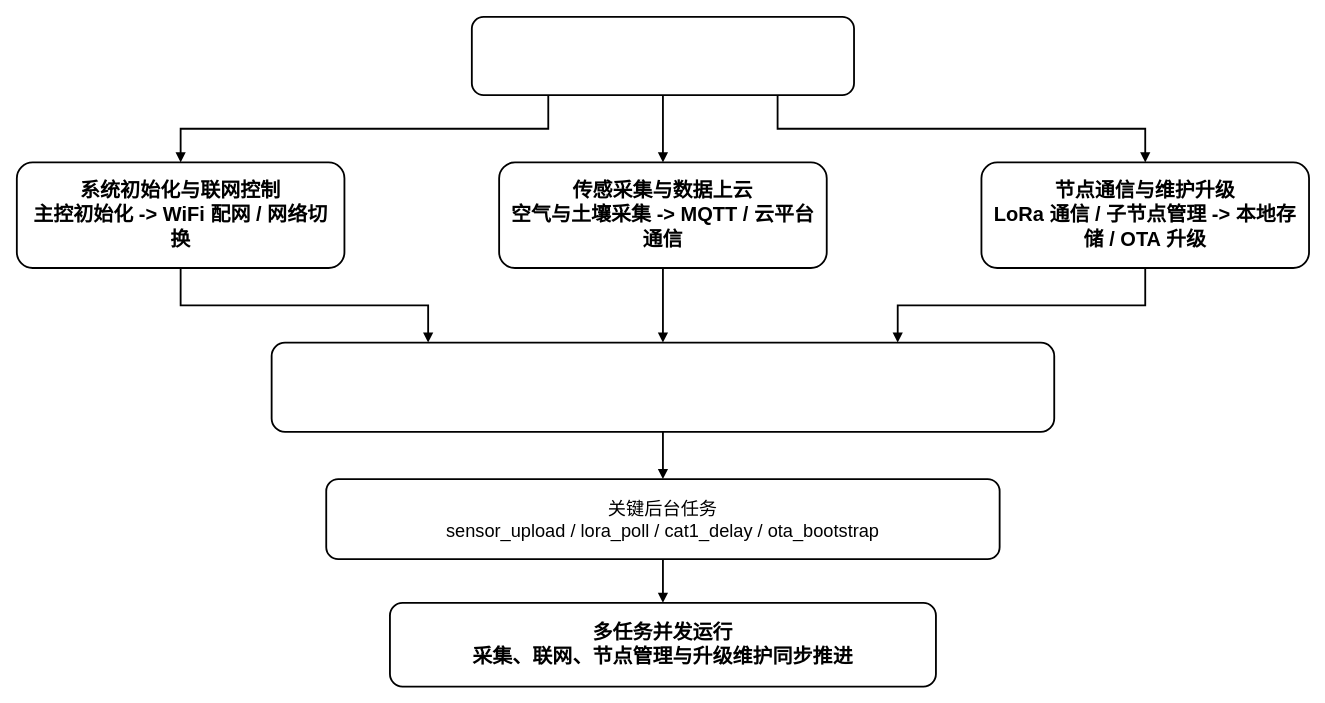
Image size: 1325x703. Some labels were removed from this diagram. Each missing label, with the box of its shape:
app_main() 系统启动入口: (470, 15, 854, 96)
统一状态标志 SysEventFlag 模块通过回调、任务和接口函数协同: (270, 341, 1055, 432)
